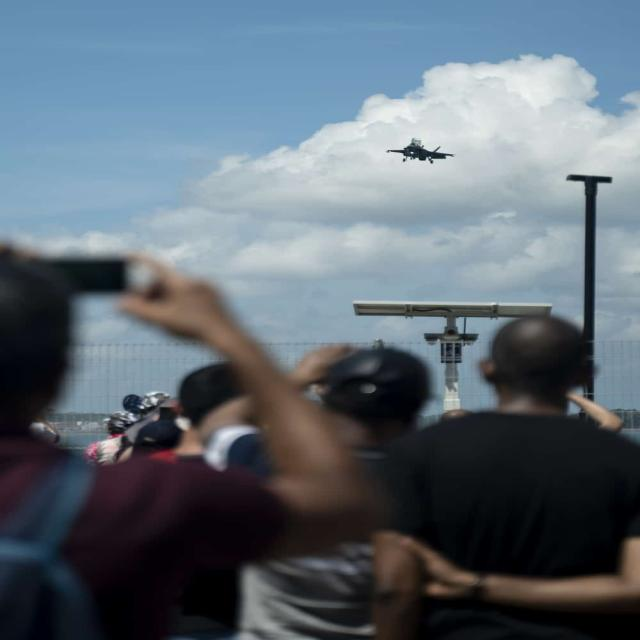MIL_Plane: (384, 138, 456, 164)
